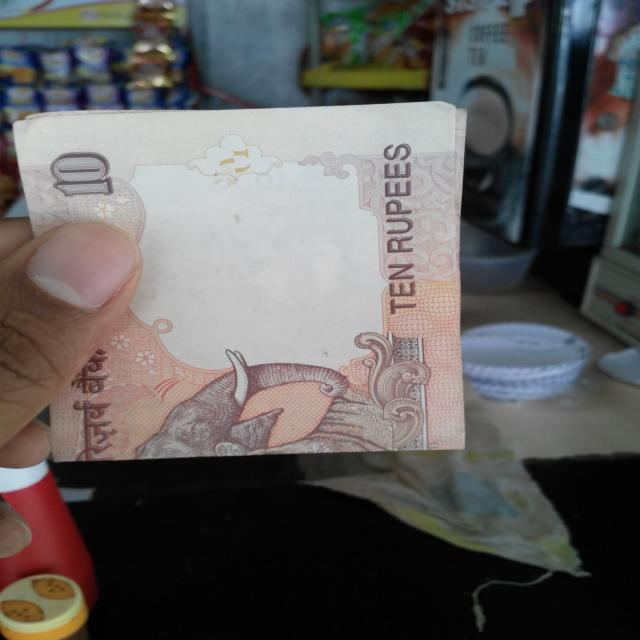10rs: (11, 101, 468, 464)
